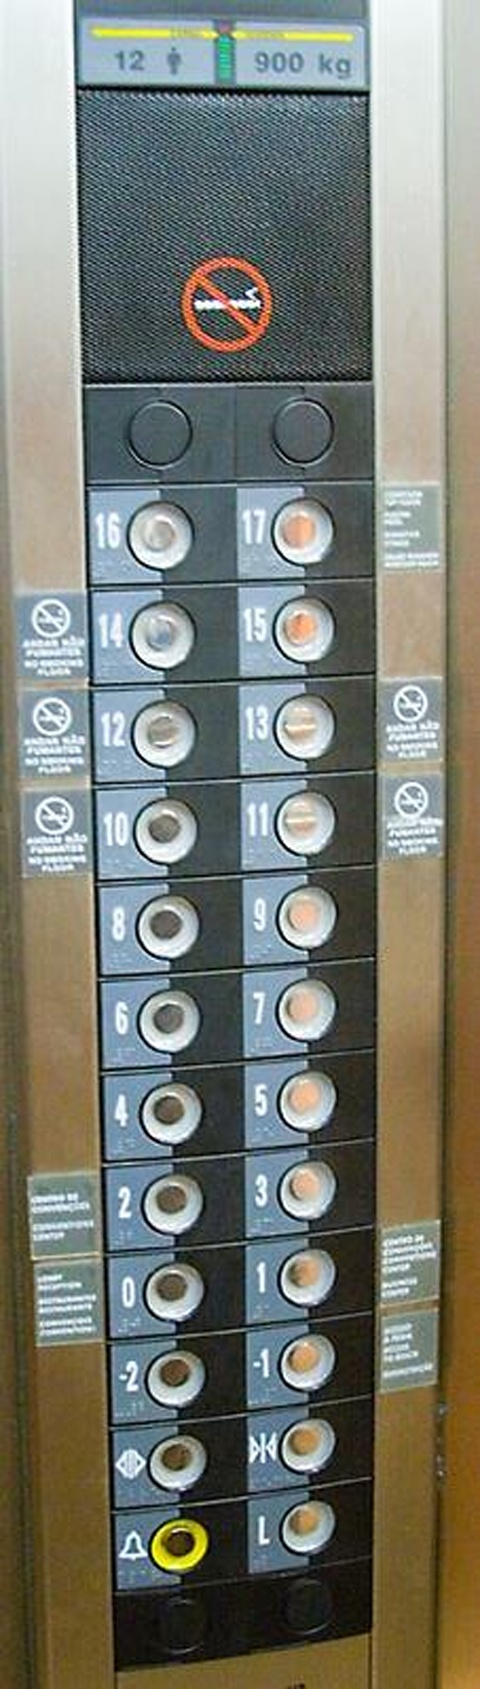-1: (241, 1304, 386, 1418)
-2: (98, 1321, 256, 1430)
0: (97, 1236, 252, 1344)
1: (240, 1220, 382, 1334)
10: (87, 773, 249, 889)
11: (236, 764, 382, 881)
12: (83, 676, 246, 791)
13: (232, 671, 383, 782)
14: (82, 580, 245, 690)
15: (232, 573, 382, 686)
16: (77, 481, 242, 592)
17: (232, 478, 382, 588)
2: (96, 1150, 250, 1259)
3: (237, 1132, 384, 1244)
4: (93, 1053, 252, 1172)
5: (237, 1044, 387, 1156)
6: (90, 962, 251, 1079)
7: (236, 952, 384, 1064)
8: (88, 868, 250, 983)
9: (237, 859, 384, 973)
L: (239, 1472, 382, 1579)
alarm: (103, 1490, 252, 1599)
close: (241, 1391, 378, 1500)
empty: (121, 396, 195, 473), (265, 393, 339, 470)
open: (100, 1411, 255, 1514)
